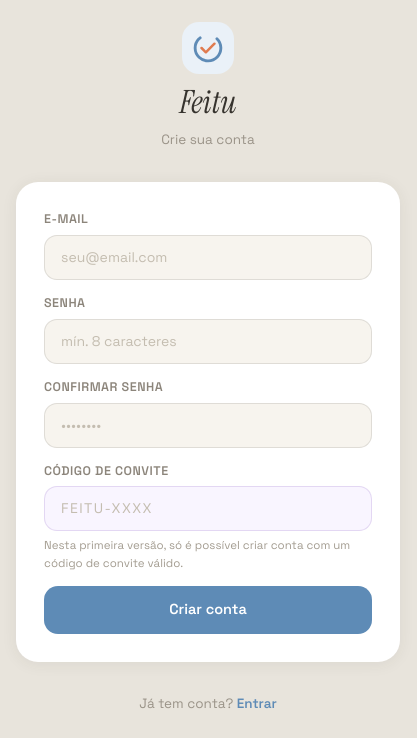
Scenario: RegisterPage › exibe erro de API em caso de falha no register
Type "c@test.com" into the field with placeholder "seu@email.com". click: coordinates (208, 258)
box: [44,235,372,280]
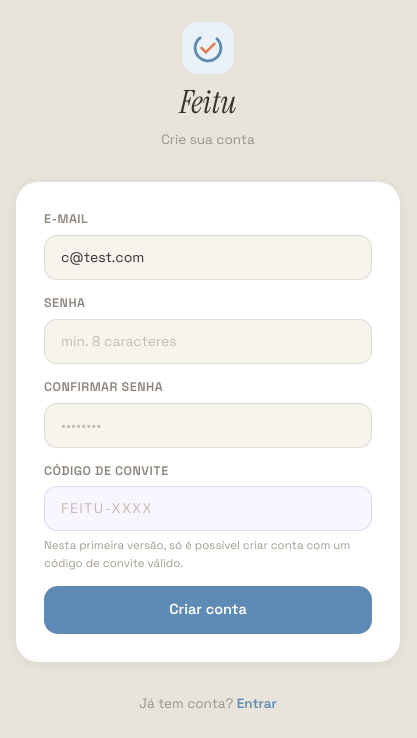
Type "senha1234" into the password field with placeholder "mín. 8 caracteres". click: coordinates (208, 341)
box: [44,319,372,364]
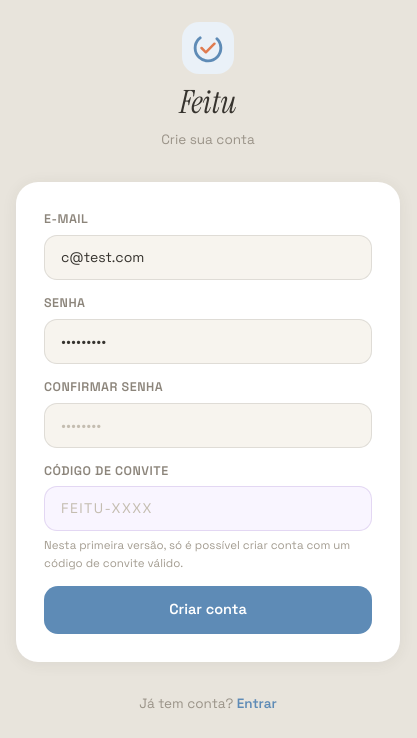
Type "senha1234" into the password field with placeholder "••••••••". click: coordinates (208, 425)
box: [44,403,372,448]
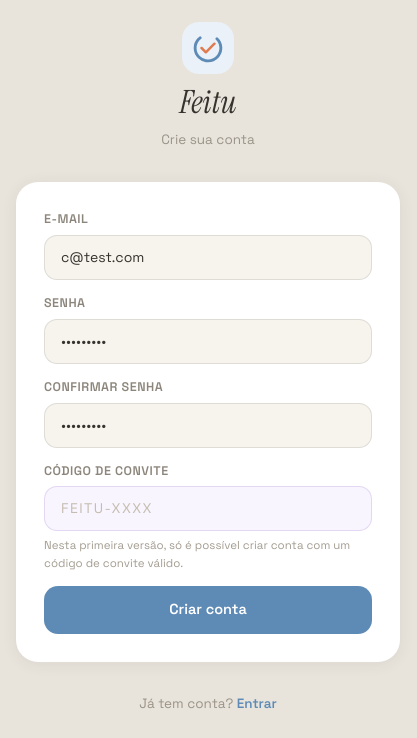
Type "FEITU-INVALIDO" into the field with placeholder "FEITU-XXXX". click: coordinates (208, 509)
box: [44,486,372,531]
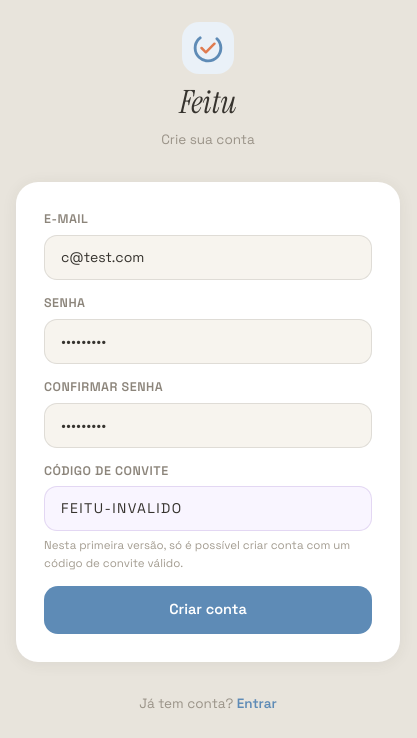
Submit the form, box [44,210,372,634]
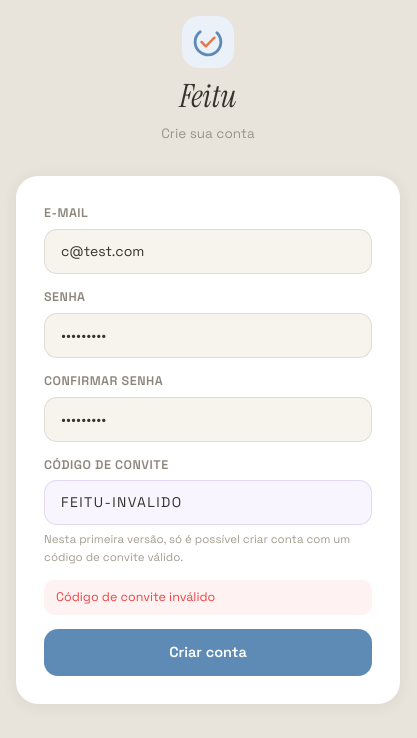
Expected: the text "Código de convite inválido" is shown, [44,580,372,615]
